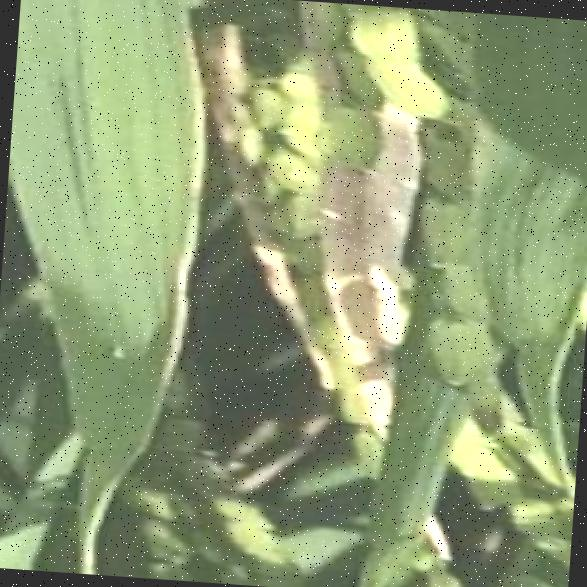Bacteria_Leaf_Blight: (16, 5, 210, 376)
